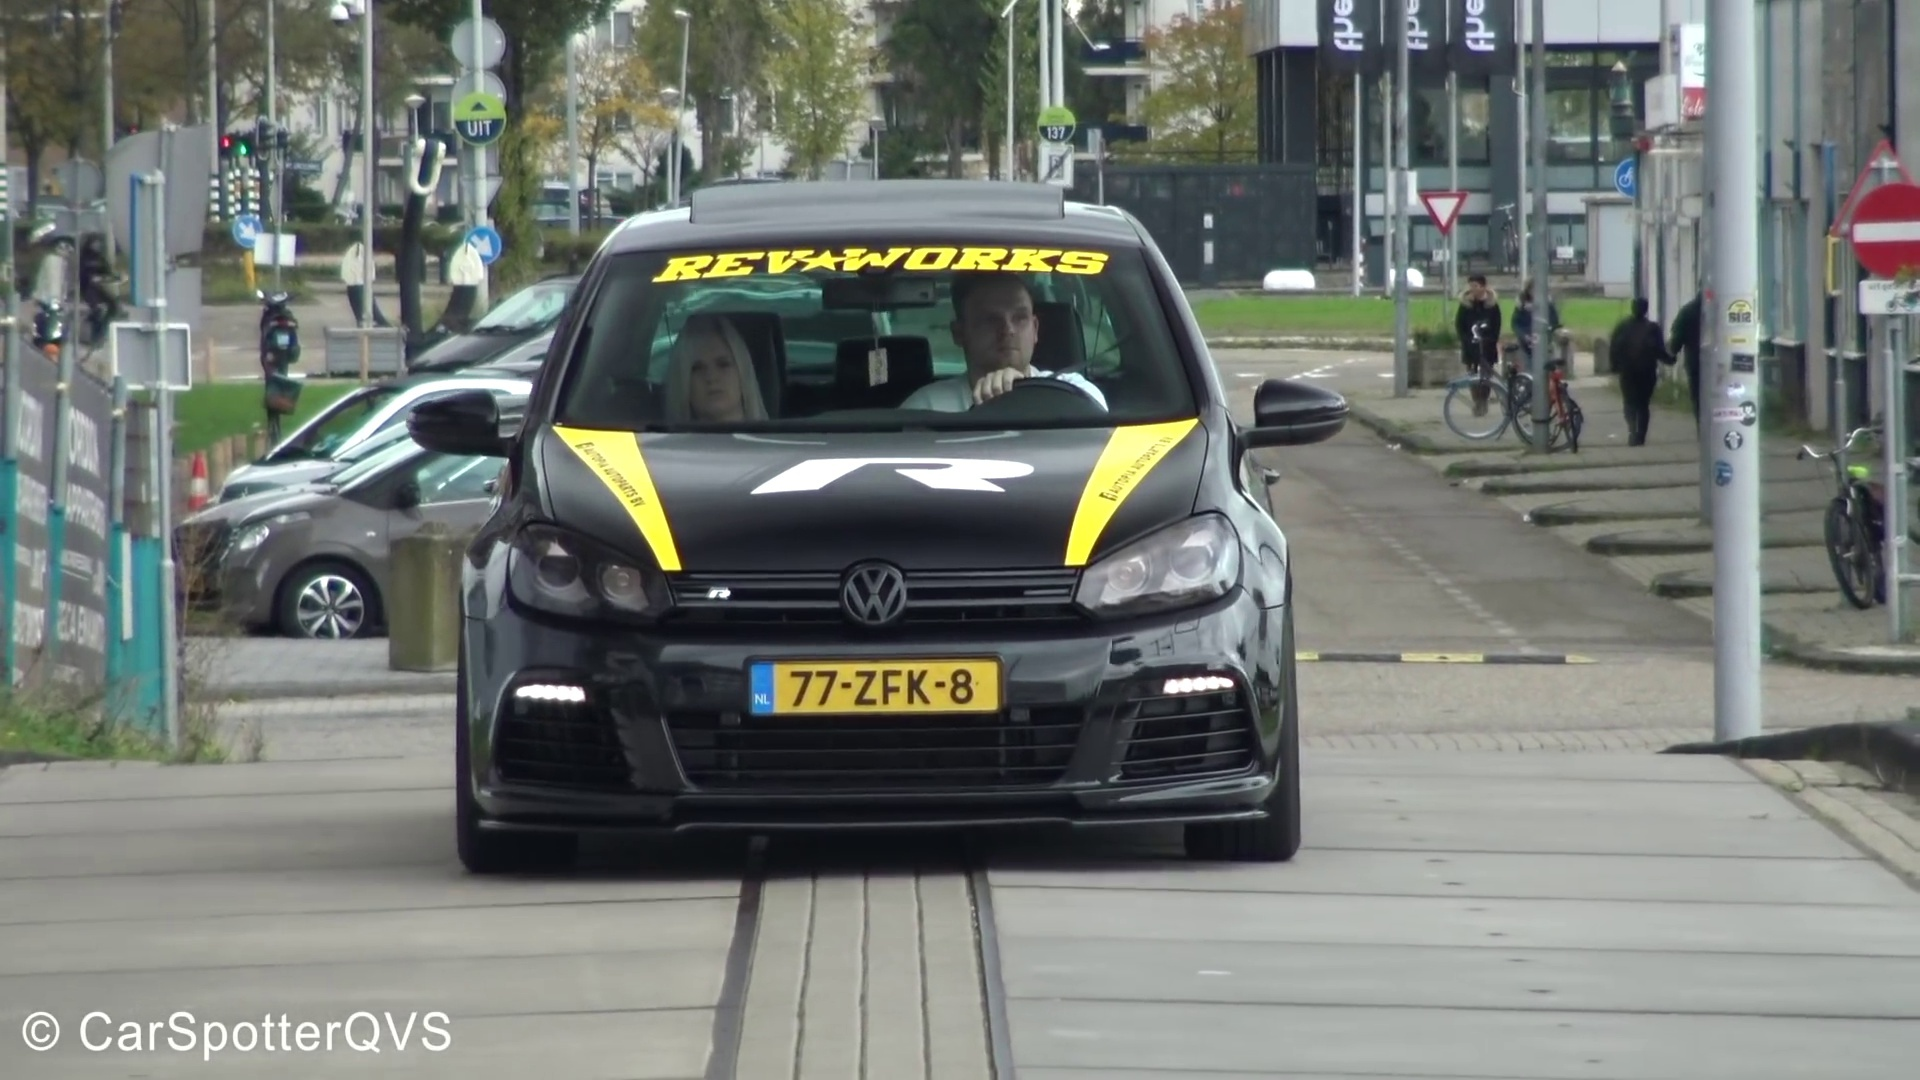number_plate: (738, 654, 1009, 722)
